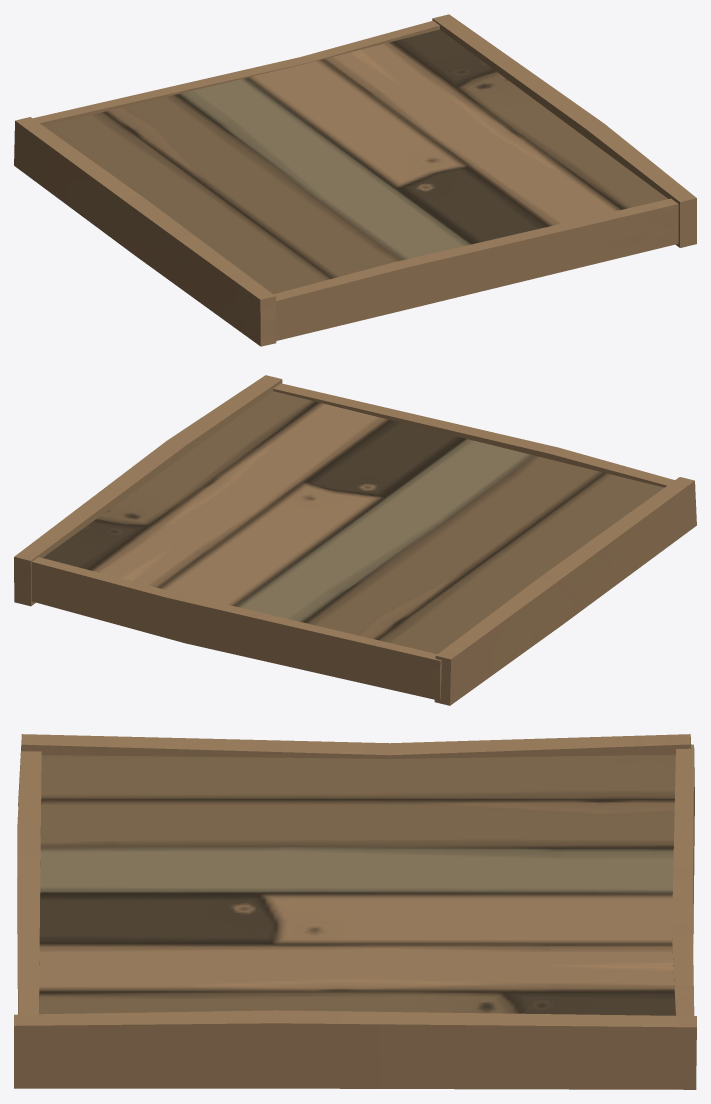
File: SM_Bld_Dock_01.fbx
3 renders of one model, top to bottom at view 1: azimuth 30°, elevation 25°; view 2: azimuth 150°, elevation 25°; view 3: azimuth 270°, elevation 25°, orthographic. The views are drawn at different scales.
Visible parts, largest first — view 1: SM_Bld_Dock_01; view 2: SM_Bld_Dock_01; view 3: SM_Bld_Dock_01.
Part boxes in pixels (left/top/right/bottom): SM_Bld_Dock_01: left=14, top=14, right=696, bottom=346; SM_Bld_Dock_01: left=14, top=375, right=696, bottom=705; SM_Bld_Dock_01: left=14, top=734, right=696, bottom=1089.
Bounding box in the file's own units: 263 × 30.41 × 260.
